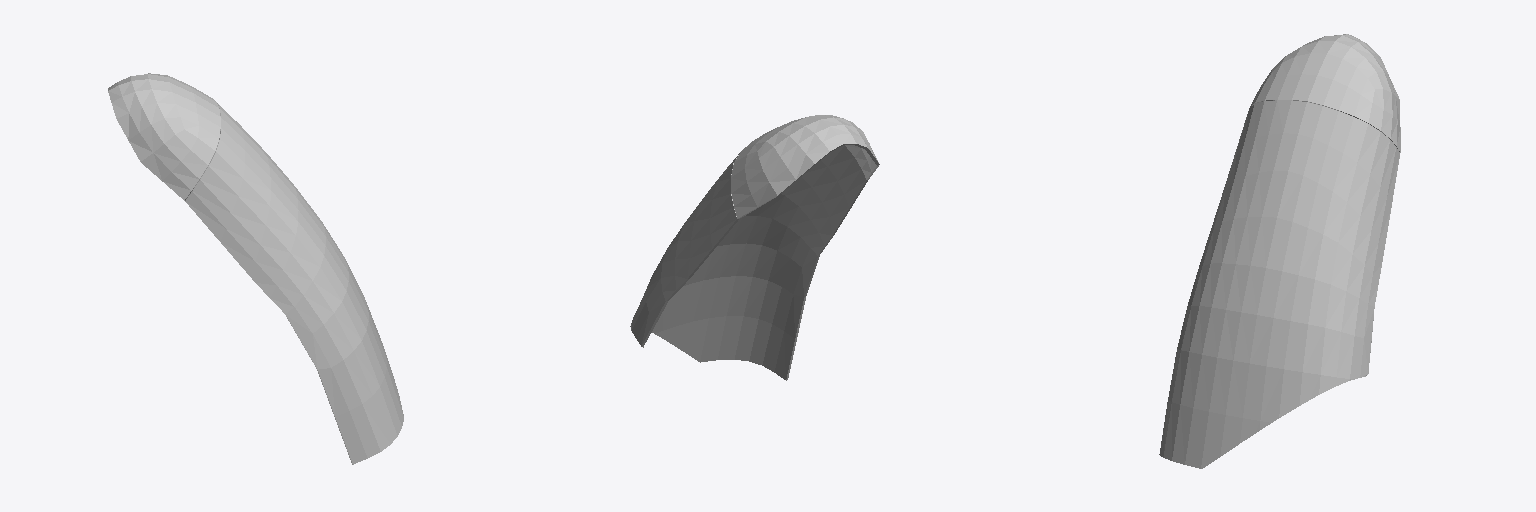
File: damaged_sidetop.obj
3 views of the same model, side by side, from view 1: azimuth 30°, elevation 25°; view 2: azimuth 150°, elevation 25°; view 3: azimuth 270°, elevation 25° (orthographic).
Visible parts, largest first — view 1: Cube.004_Cube.001_cell.003; view 2: Cube.004_Cube.001_cell.003; view 3: Cube.004_Cube.001_cell.003.
Boxes of the visible parts, x1=… form: Cube.004_Cube.001_cell.003: x1=108, y1=73, x2=403, y2=464; Cube.004_Cube.001_cell.003: x1=630, y1=115, x2=879, y2=380; Cube.004_Cube.001_cell.003: x1=1159, y1=34, x2=1400, y2=468.
Bounding box in the file's own units: 1.96 × 2.75 × 1.71.